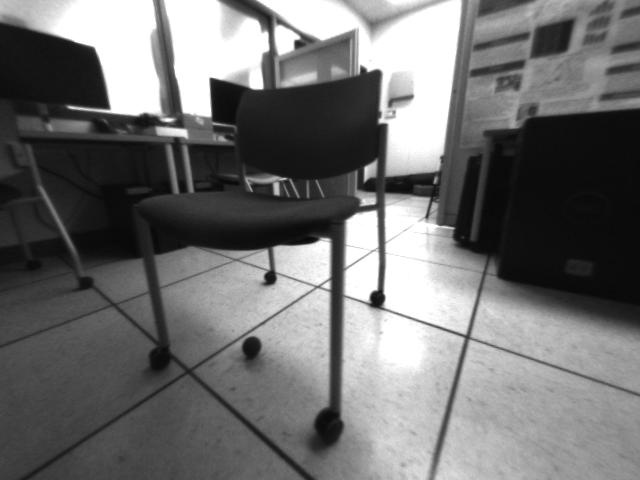dogtoy: (236, 328, 269, 365)
